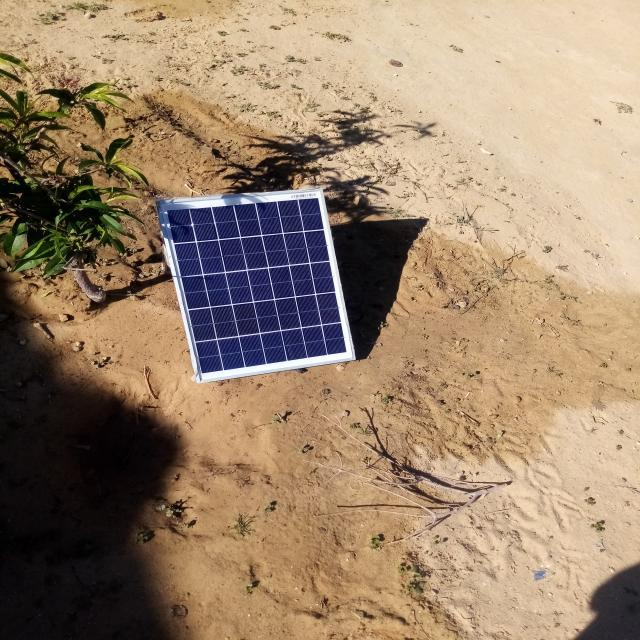no faulty: (156, 188, 355, 383)
